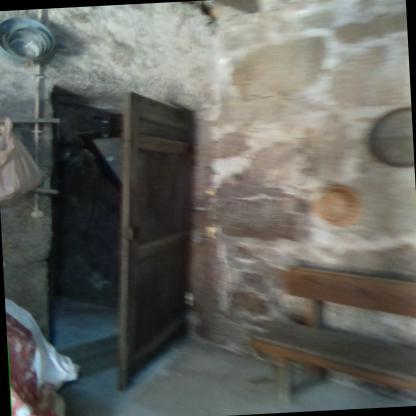semi: (33, 71, 222, 396)
